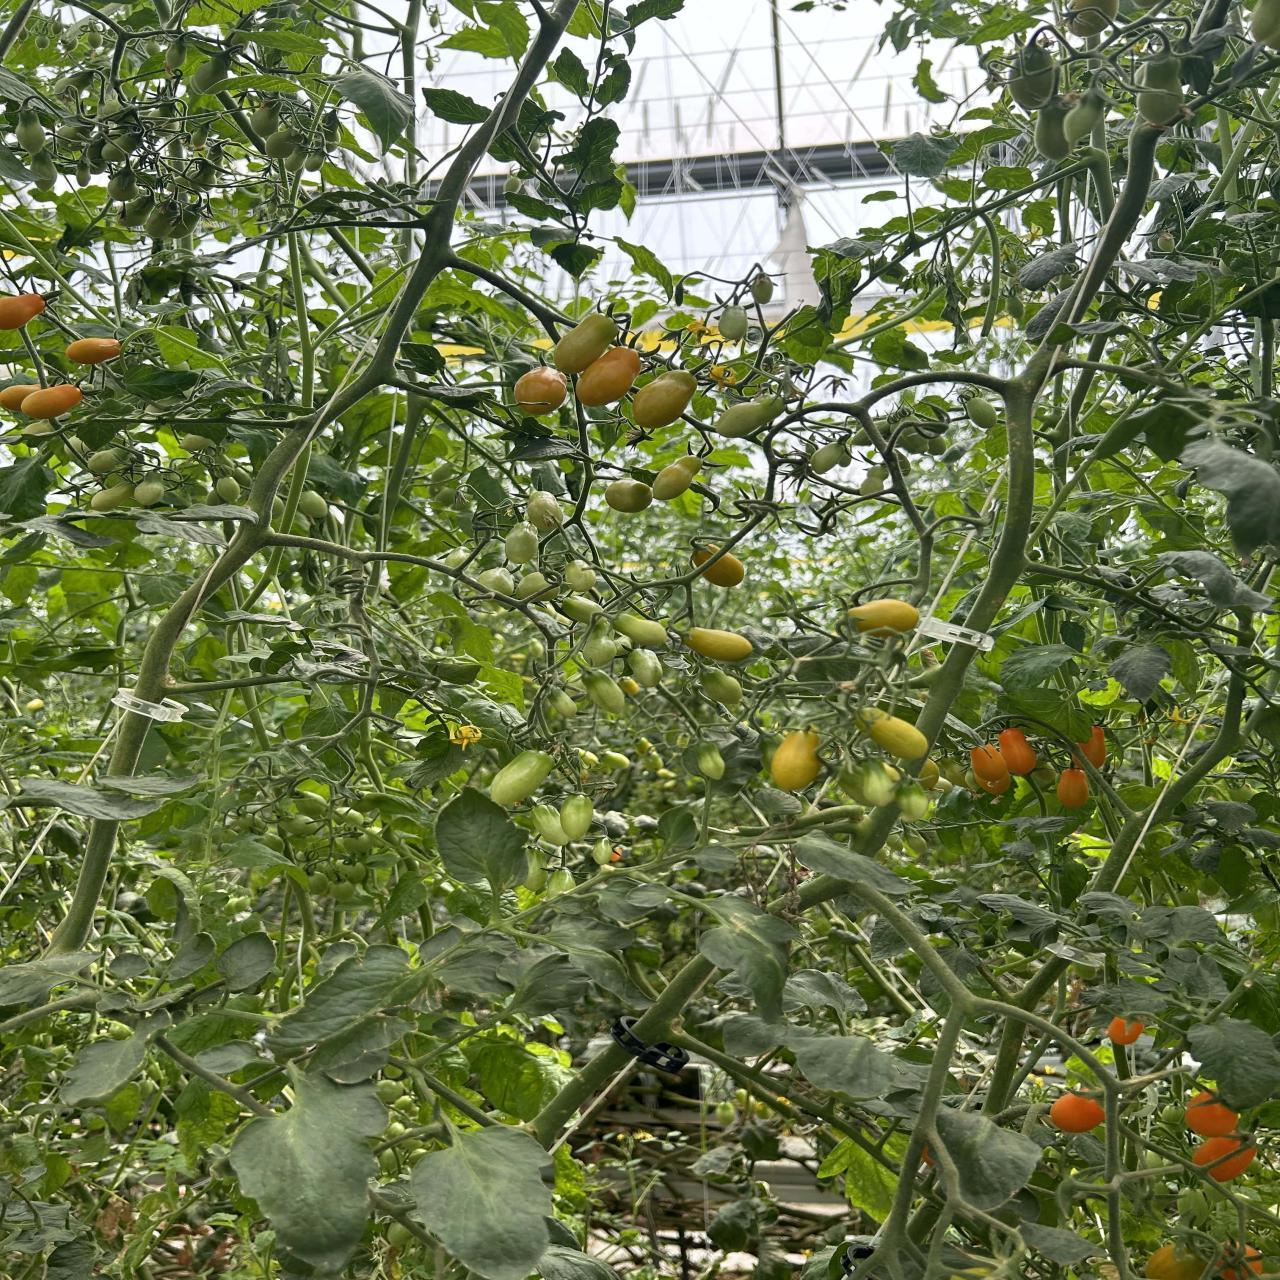Flor rugoso: (809, 442, 850, 474), (965, 399, 996, 429), (859, 465, 888, 495), (709, 365, 736, 388), (687, 319, 706, 332)
Tomate: (1192, 1136, 1255, 1182), (1185, 1091, 1238, 1138), (1050, 1094, 1105, 1133), (1107, 1016, 1145, 1047)
Tomate Rugoso: (552, 313, 618, 374), (577, 347, 639, 406), (489, 751, 553, 808), (633, 372, 696, 428), (770, 730, 822, 791), (714, 397, 785, 437), (870, 715, 928, 761), (513, 367, 567, 416), (685, 627, 753, 662), (849, 600, 919, 632), (20, 384, 82, 420), (969, 744, 1009, 794), (697, 667, 743, 708), (614, 612, 667, 647), (583, 672, 625, 715), (998, 728, 1036, 775), (860, 761, 899, 806), (0, 293, 46, 331), (604, 478, 652, 513), (652, 462, 695, 501), (531, 804, 570, 846), (559, 794, 593, 840), (64, 338, 121, 365), (626, 647, 662, 688), (703, 552, 745, 587), (526, 491, 564, 530), (504, 523, 538, 563), (1056, 768, 1089, 809), (90, 483, 135, 511), (1077, 726, 1107, 768), (897, 784, 931, 821), (0, 383, 40, 411), (295, 490, 328, 523), (581, 636, 617, 667), (561, 597, 601, 622), (547, 688, 578, 721), (87, 449, 125, 475), (479, 567, 515, 595), (212, 470, 240, 503), (134, 478, 165, 506), (516, 572, 549, 599), (178, 434, 215, 454), (692, 545, 717, 565)
